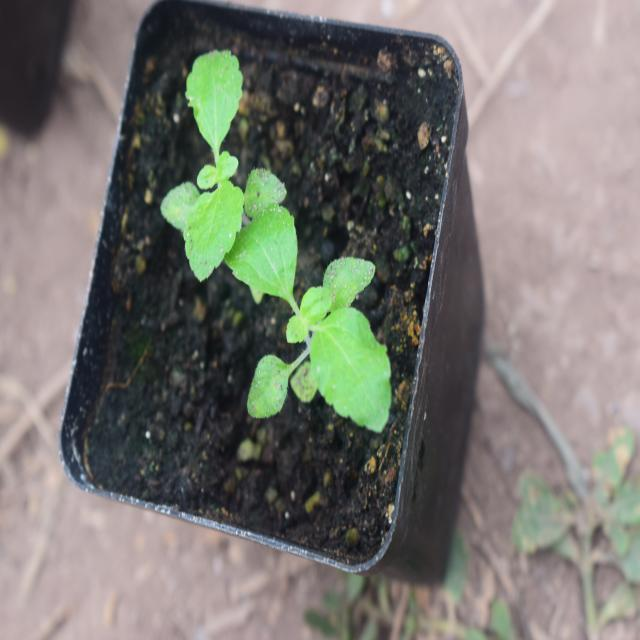billygoat_weed: (230, 189, 380, 431), (155, 36, 266, 271)
